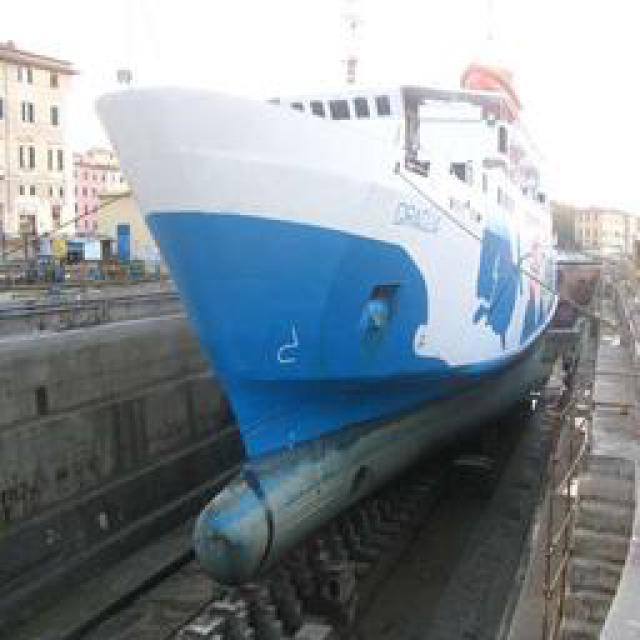Ship: (89, 6, 578, 585)
